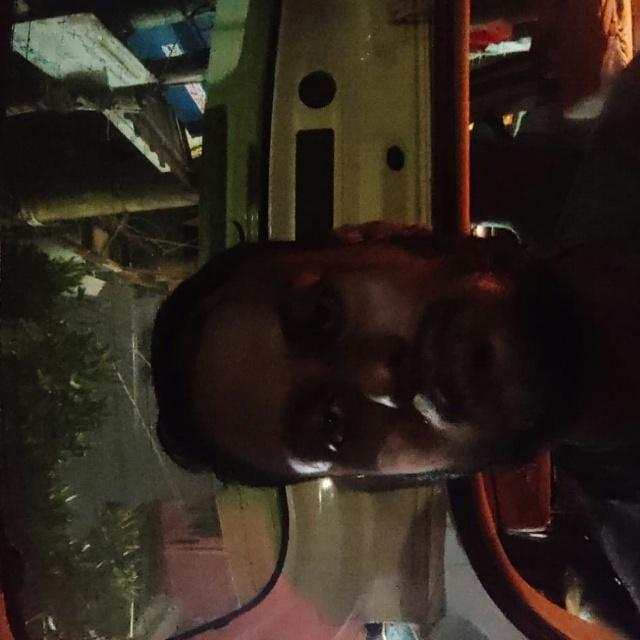Disgust: (132, 209, 557, 540)
